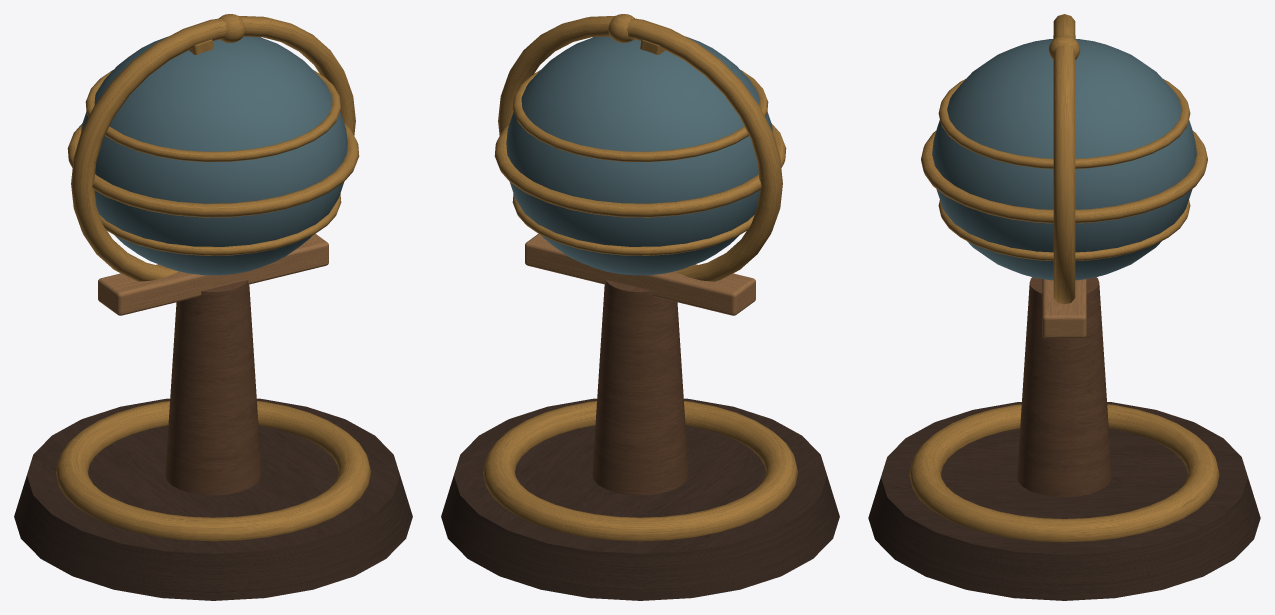
Rendered from globe.glb.
3 renders of one model, left to right at view 1: azimuth 30°, elevation 25°; view 2: azimuth 150°, elevation 25°; view 3: azimuth 270°, elevation 25°, orthographic.
Visible parts, largest first — view 1: globe; view 2: globe; view 3: globe.
Part boxes in pixels (left/top/right/bottom): globe: left=14, top=14, right=412, bottom=600; globe: left=441, top=14, right=839, bottom=600; globe: left=868, top=14, right=1260, bottom=600.
Bounding box in the file's own units: 0.8 × 1.1 × 0.8.
1 material, 1 textured.
